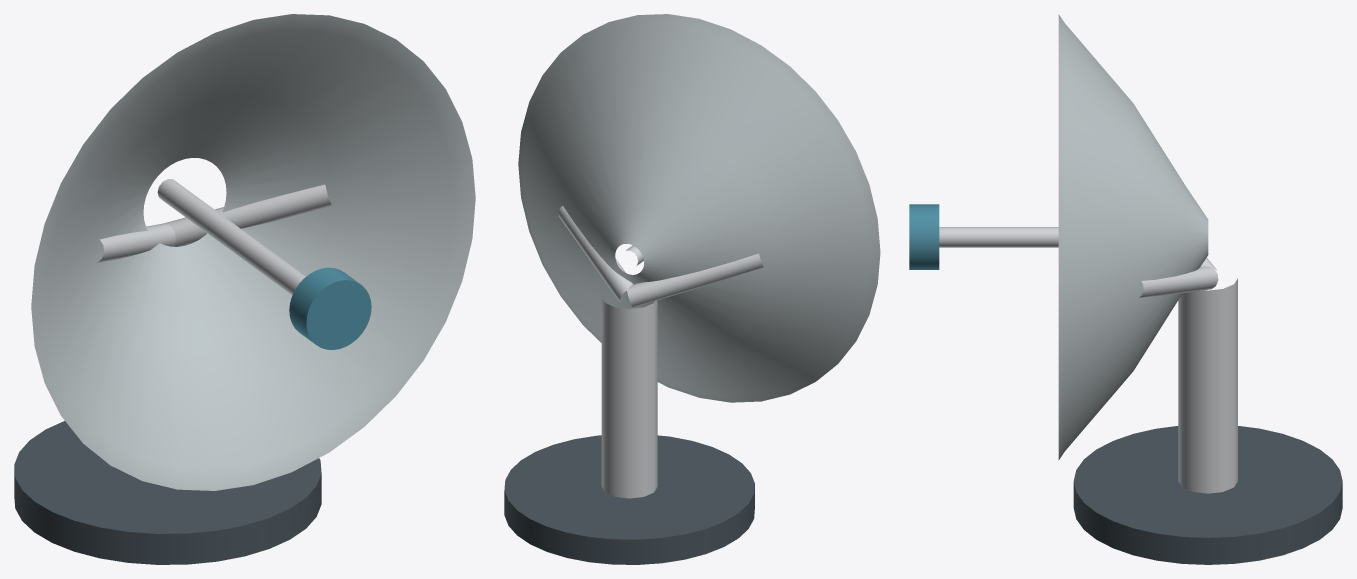
Rendered from radar.glb.
3 renders of one model, left to right at view 1: azimuth 30°, elevation 25°; view 2: azimuth 150°, elevation 25°; view 3: azimuth 270°, elevation 25°, orthographic. The views are drawn at different scales.
Parts seen in each view (by area): view 1: radar-dish; view 2: radar-dish; view 3: radar-dish.
Part boxes in pixels (<box>): radar-dish: <box>14,14,475,564</box>; radar-dish: <box>504,14,880,564</box>; radar-dish: <box>909,14,1342,564</box>.
Size of the model in its own units: 1.5 by 1.75 by 1.45.
